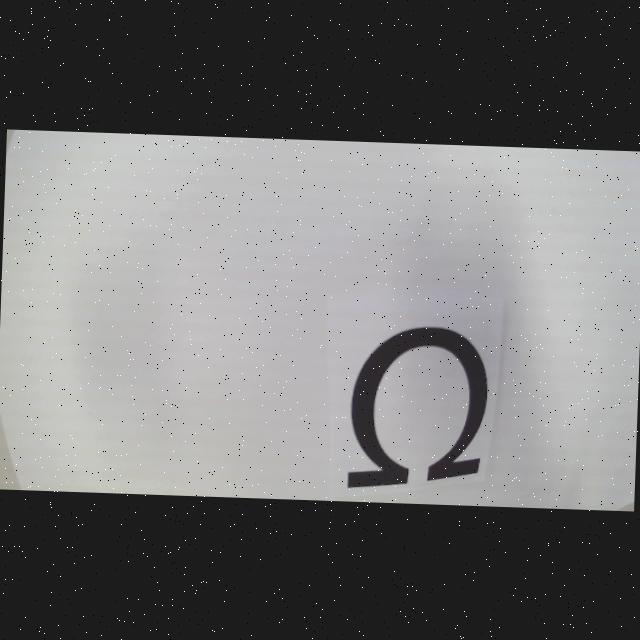OMEGA: (347, 324, 489, 492)
